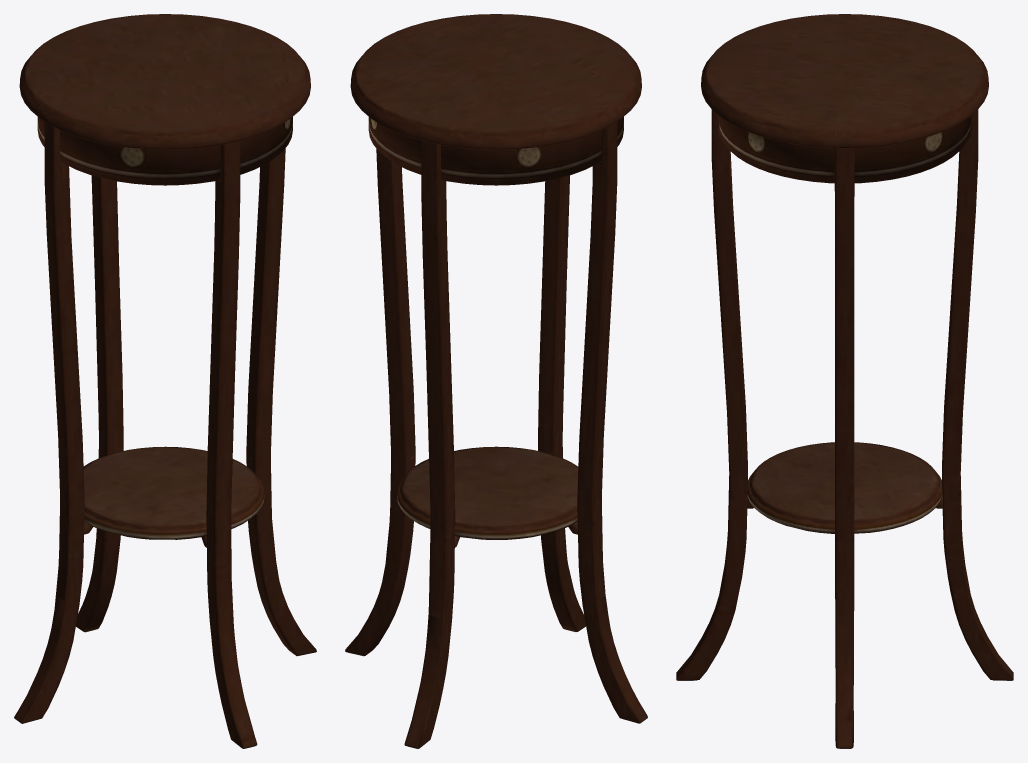
Rendered from side_table.glb.
3 views of the same model, side by side, from view 1: azimuth 30°, elevation 25°; view 2: azimuth 150°, elevation 25°; view 3: azimuth 270°, elevation 25° (orthographic).
Parts seen in each view (by area): view 1: side_table_tall_01; view 2: side_table_tall_01; view 3: side_table_tall_01.
Part boxes in pixels (x1,y1,x2,y2): side_table_tall_01: [14, 14, 316, 748]; side_table_tall_01: [345, 14, 647, 748]; side_table_tall_01: [676, 14, 1013, 748].
Size of the model in its own units: 0.384 by 0.7611 by 0.384.
1 material, 1 textured.
